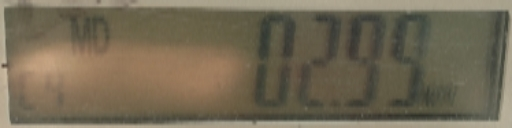0: (248, 3, 296, 112)
2: (297, 1, 337, 108)
9: (387, 7, 428, 111), (347, 8, 380, 110)
d: (326, 90, 345, 113)
